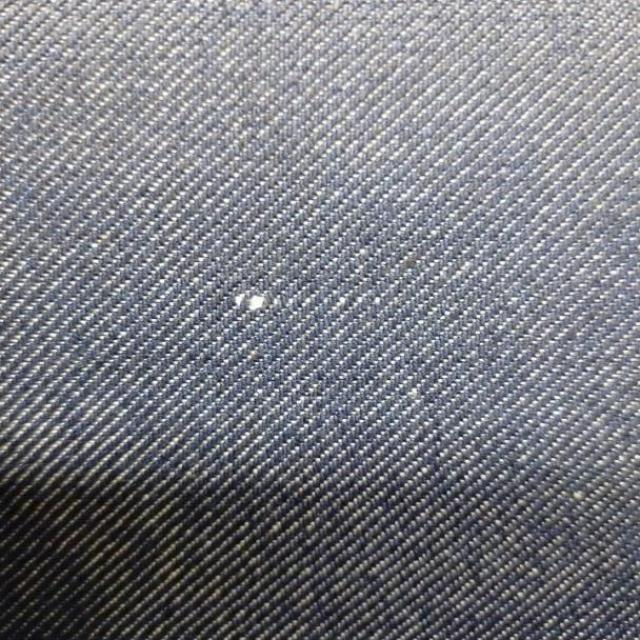Knot: (223, 288, 374, 314)
